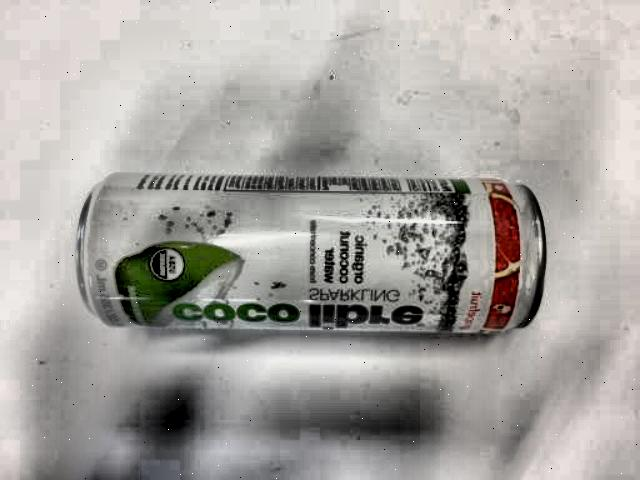Bottles: (66, 155, 586, 351)
